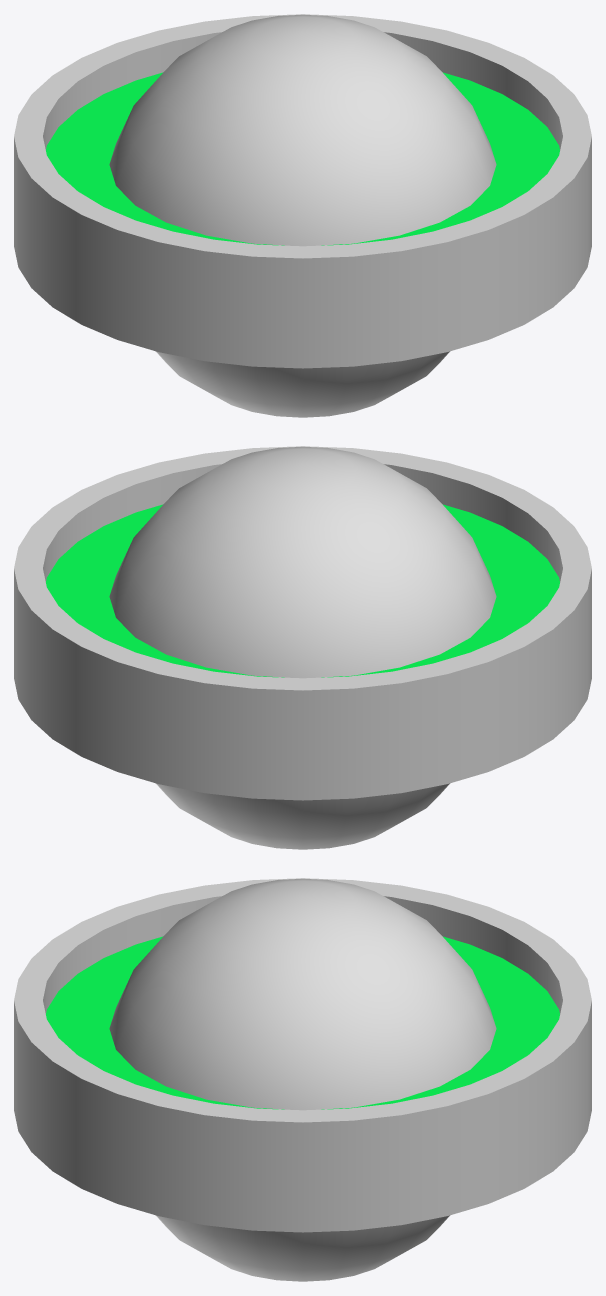
File: Button actif.fbx
3 renders of one model, top to bottom at view 1: azimuth 30°, elevation 25°; view 2: azimuth 150°, elevation 25°; view 3: azimuth 270°, elevation 25°, orthographic.
Parts seen in each view (by area): view 1: Sphere, Tube_1, Tube, Tube_2; view 2: Sphere, Tube_1, Tube, Tube_2; view 3: Sphere, Tube_1, Tube, Tube_2.
Part boxes in pixels (left/top/right/bottom): Sphere: left=109, top=14, right=496, bottom=417; Tube_1: left=14, top=14, right=591, bottom=295; Tube: left=14, top=169, right=591, bottom=368; Tube_2: left=46, top=72, right=559, bottom=245; Sphere: left=109, top=446, right=496, bottom=849; Tube_1: left=14, top=446, right=591, bottom=727; Tube: left=14, top=601, right=591, bottom=800; Tube_2: left=46, top=504, right=559, bottom=677; Sphere: left=109, top=878, right=496, bottom=1281; Tube_1: left=14, top=878, right=591, bottom=1159; Tube: left=14, top=1038, right=591, bottom=1232; Tube_2: left=46, top=936, right=559, bottom=1109.
Size of the model in its own units: 100 by 70 by 100.
